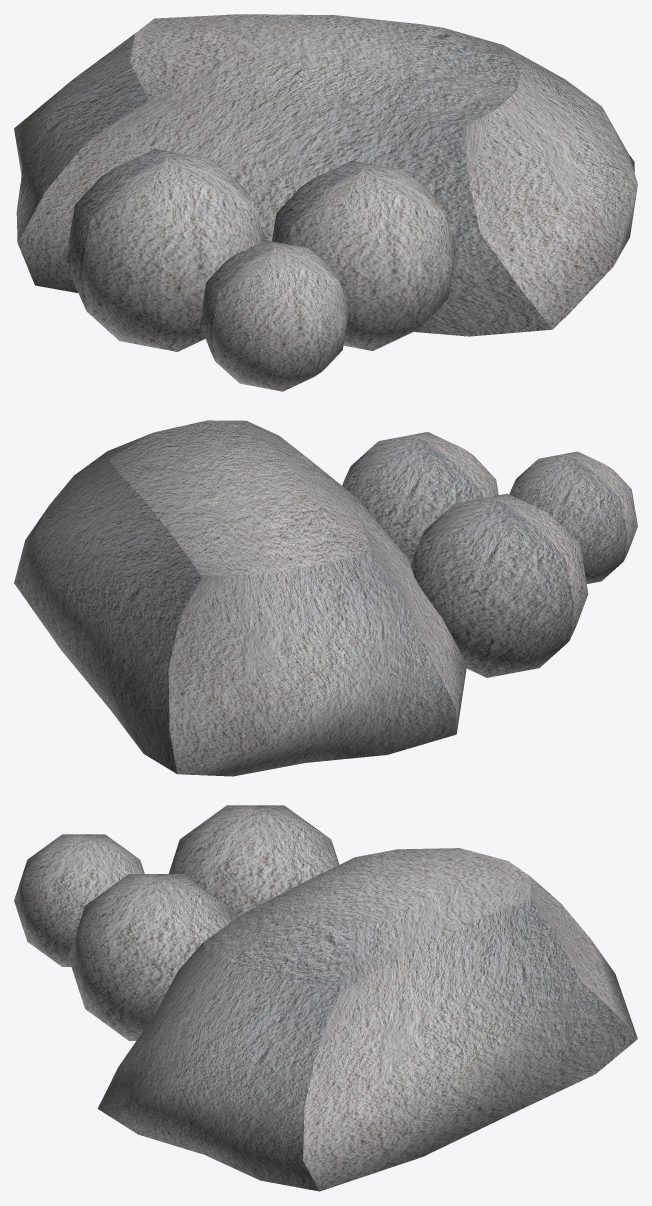
The model's file is Stein.FBX.
The picture shows the model from 3 angles, top to bottom: view 1: azimuth 30°, elevation 25°; view 2: azimuth 150°, elevation 25°; view 3: azimuth 270°, elevation 25°; orthographic projection. The views are drawn at different scales.
Parts seen in each view (by area): view 1: GeoSphere002; view 2: GeoSphere002; view 3: GeoSphere002.
Boxes of the visible parts, x1,y1,x2,y2 form: GeoSphere002: (14,14,637,391); GeoSphere002: (14,420,637,776); GeoSphere002: (14,805,637,1191).
Size of the model in its own units: 199 by 82.63 by 204.
